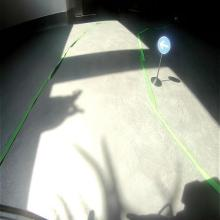left: (157, 35, 171, 54)
